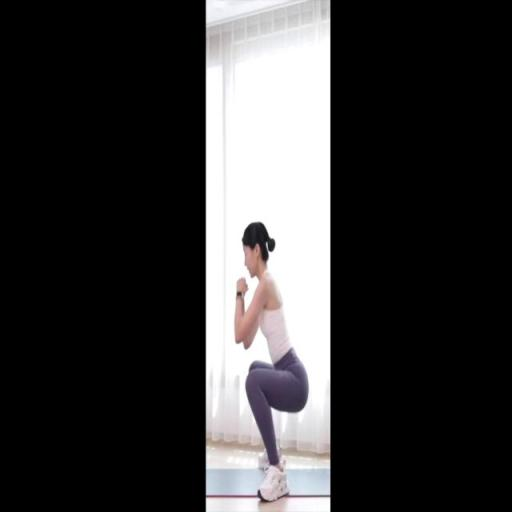Normal_BrenchPress: (233, 221, 310, 504)
